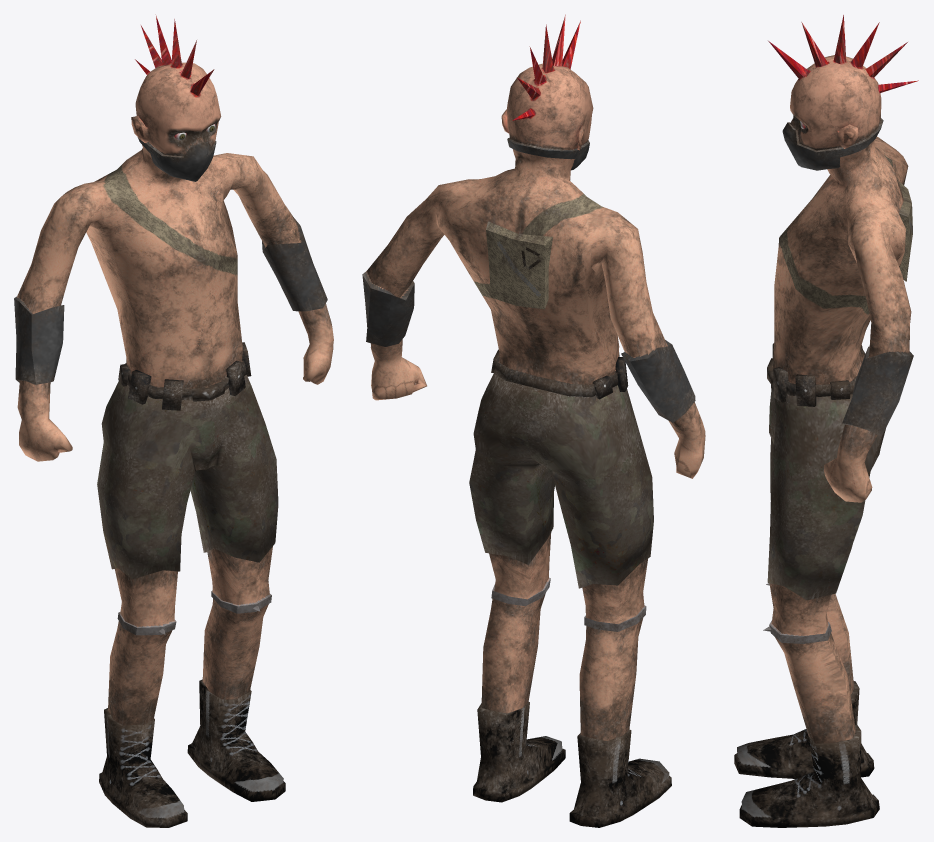
The model's file is Anim_morir_1_npc2.0012.obj.
The picture shows the model from 3 angles, left to right: view 1: azimuth 30°, elevation 25°; view 2: azimuth 150°, elevation 25°; view 3: azimuth 270°, elevation 25°; orthographic projection. The views are drawn at different scales.
Visible parts, largest first — view 1: polySurface1; view 2: polySurface1; view 3: polySurface1.
Boxes of the visible parts, x1,y1,x2,y2 form: polySurface1: (14,14,333,827); polySurface1: (362,14,705,827); polySurface1: (734,15,918,827).
Size of the model in its own units: 4.4 by 10.06 by 2.16.
